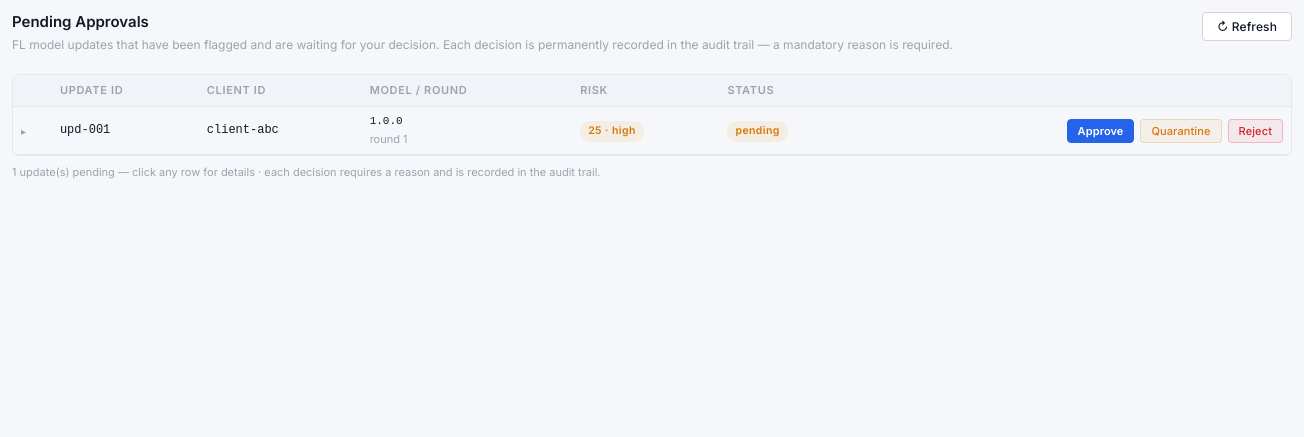
Test case: Approvals › cancel button clears confirmation panel
The width and height of the screenshot is (1304, 437).
Click the button "Approve": (1101, 131) [1067,119,1134,143]
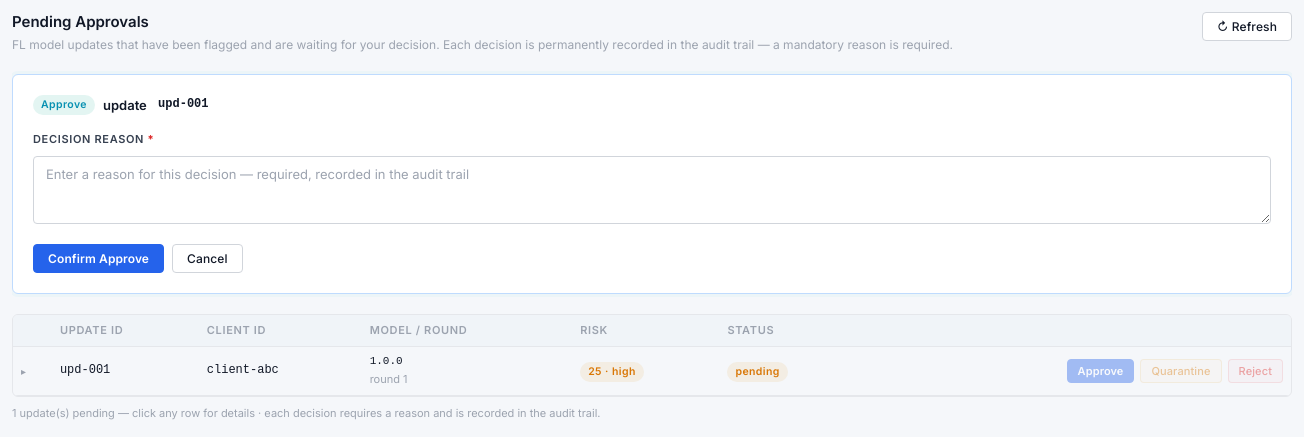
Click the button "Cancel": (207, 258) [172,244,243,273]
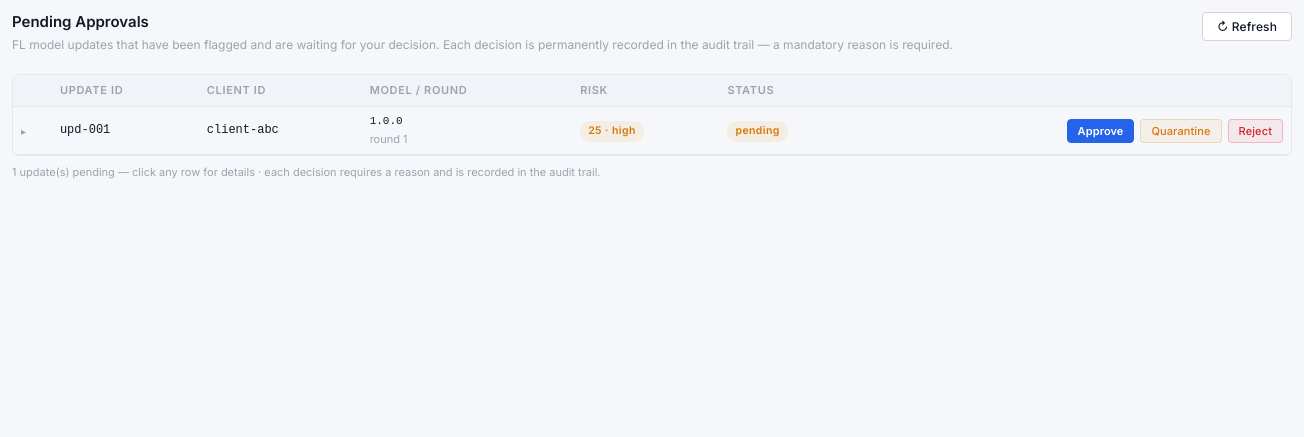
Expected: the button "Confirm Approve" is gone
